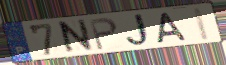7: (27, 22, 56, 57)
A: (156, 12, 189, 45)
I: (192, 7, 212, 42)
J: (125, 12, 154, 49)
N: (59, 17, 95, 56)
P: (87, 16, 119, 52)
